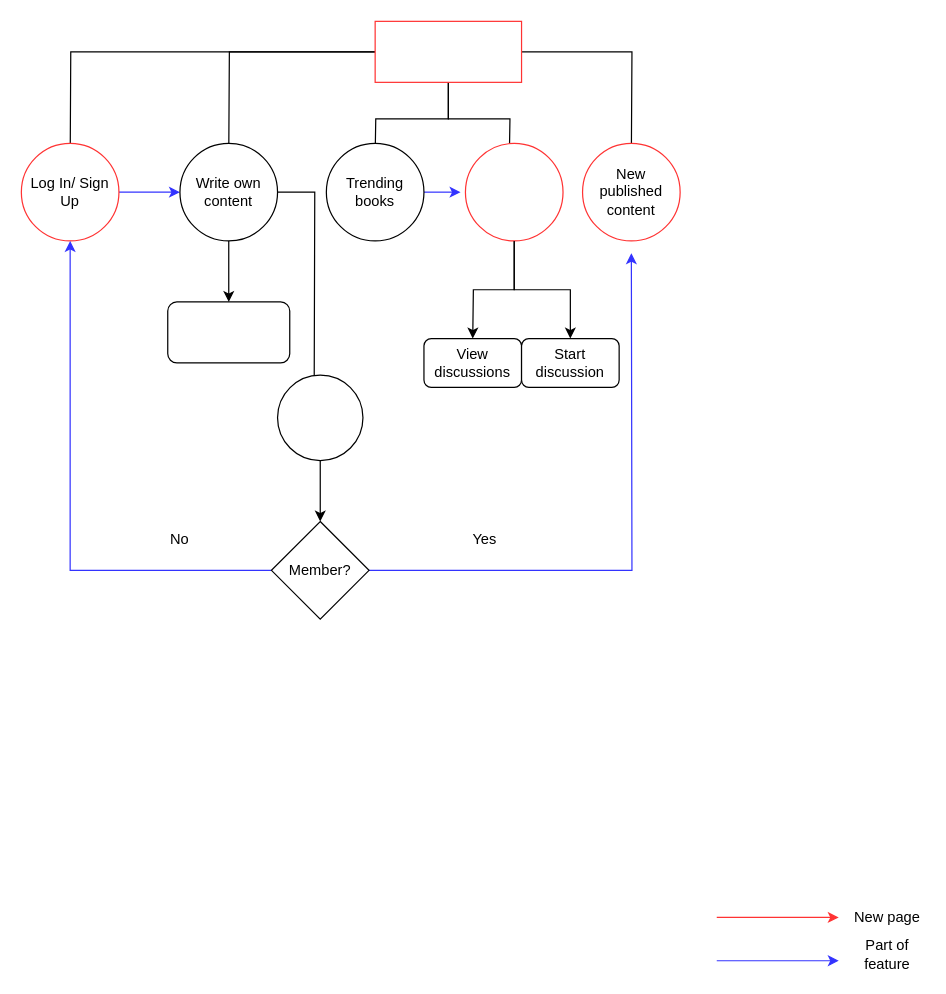
Some shapes in this 946 by 994 pixel diagram are drawn without their labels. The shapes that lost their labels are listed below. From the top down, each one's box as (x1, y1, x2, y2) in pixels, then its label:
(374, 20, 522, 82): Landing Page
(464, 142, 563, 241): Discuss
(167, 301, 290, 363): AI Assistant + textbox
(276, 374, 363, 461): Publish/Save
